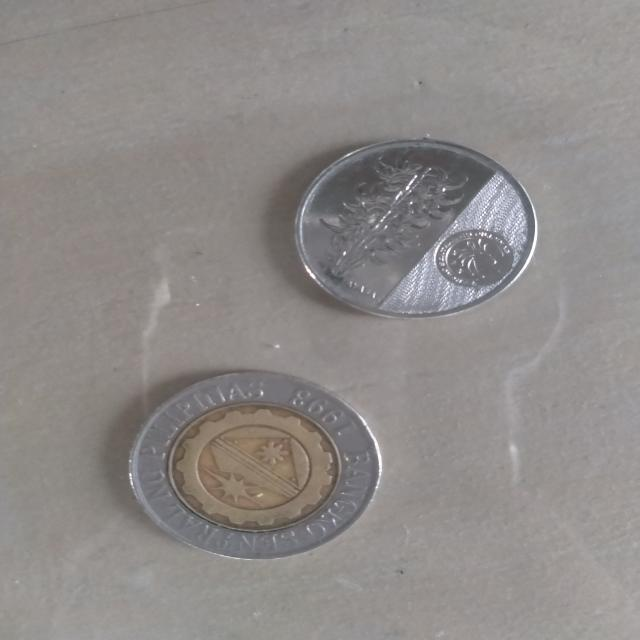10_Old_Back: (125, 371, 380, 559)
5_New_Back: (304, 146, 472, 290)
